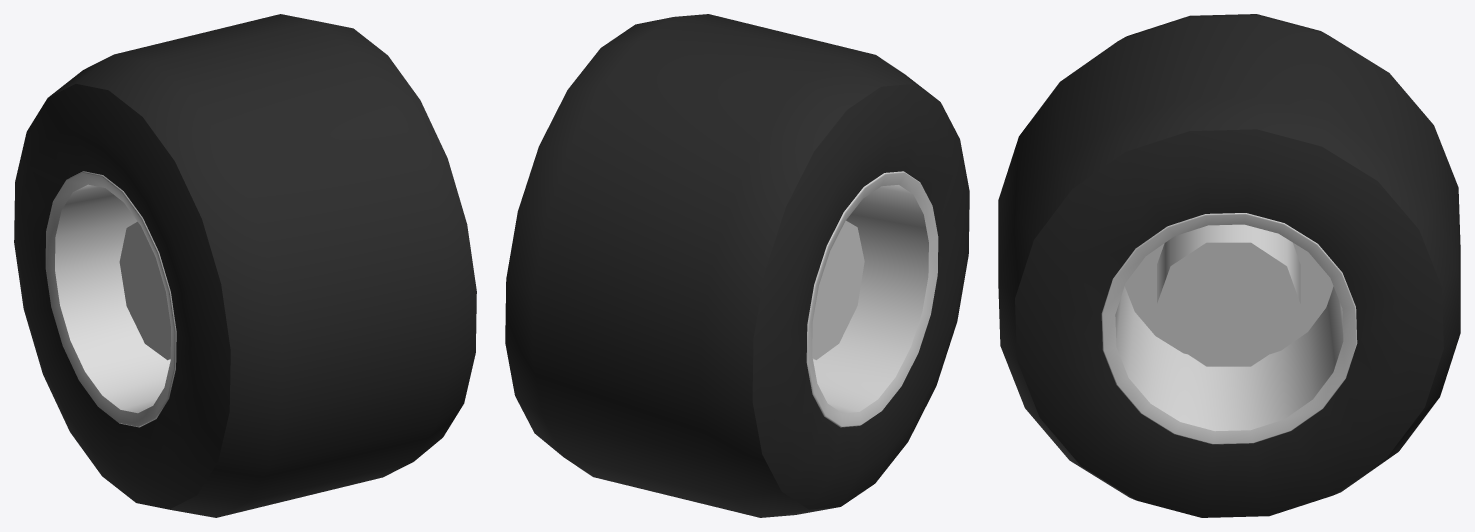
File: Wheel.fbx
3 renders of one model, left to right at view 1: azimuth 30°, elevation 25°; view 2: azimuth 150°, elevation 25°; view 3: azimuth 270°, elevation 25°, orthographic. The views are drawn at different scales.
Visible parts, largest first — view 1: Wheel; view 2: Wheel; view 3: Wheel.
Boxes of the visible parts, left/top/right/bottom form: Wheel: left=14, top=14, right=476, bottom=517; Wheel: left=505, top=14, right=969, bottom=517; Wheel: left=998, top=14, right=1460, bottom=517.
Size of the model in its own units: 21.37 by 31.81 by 31.82.
